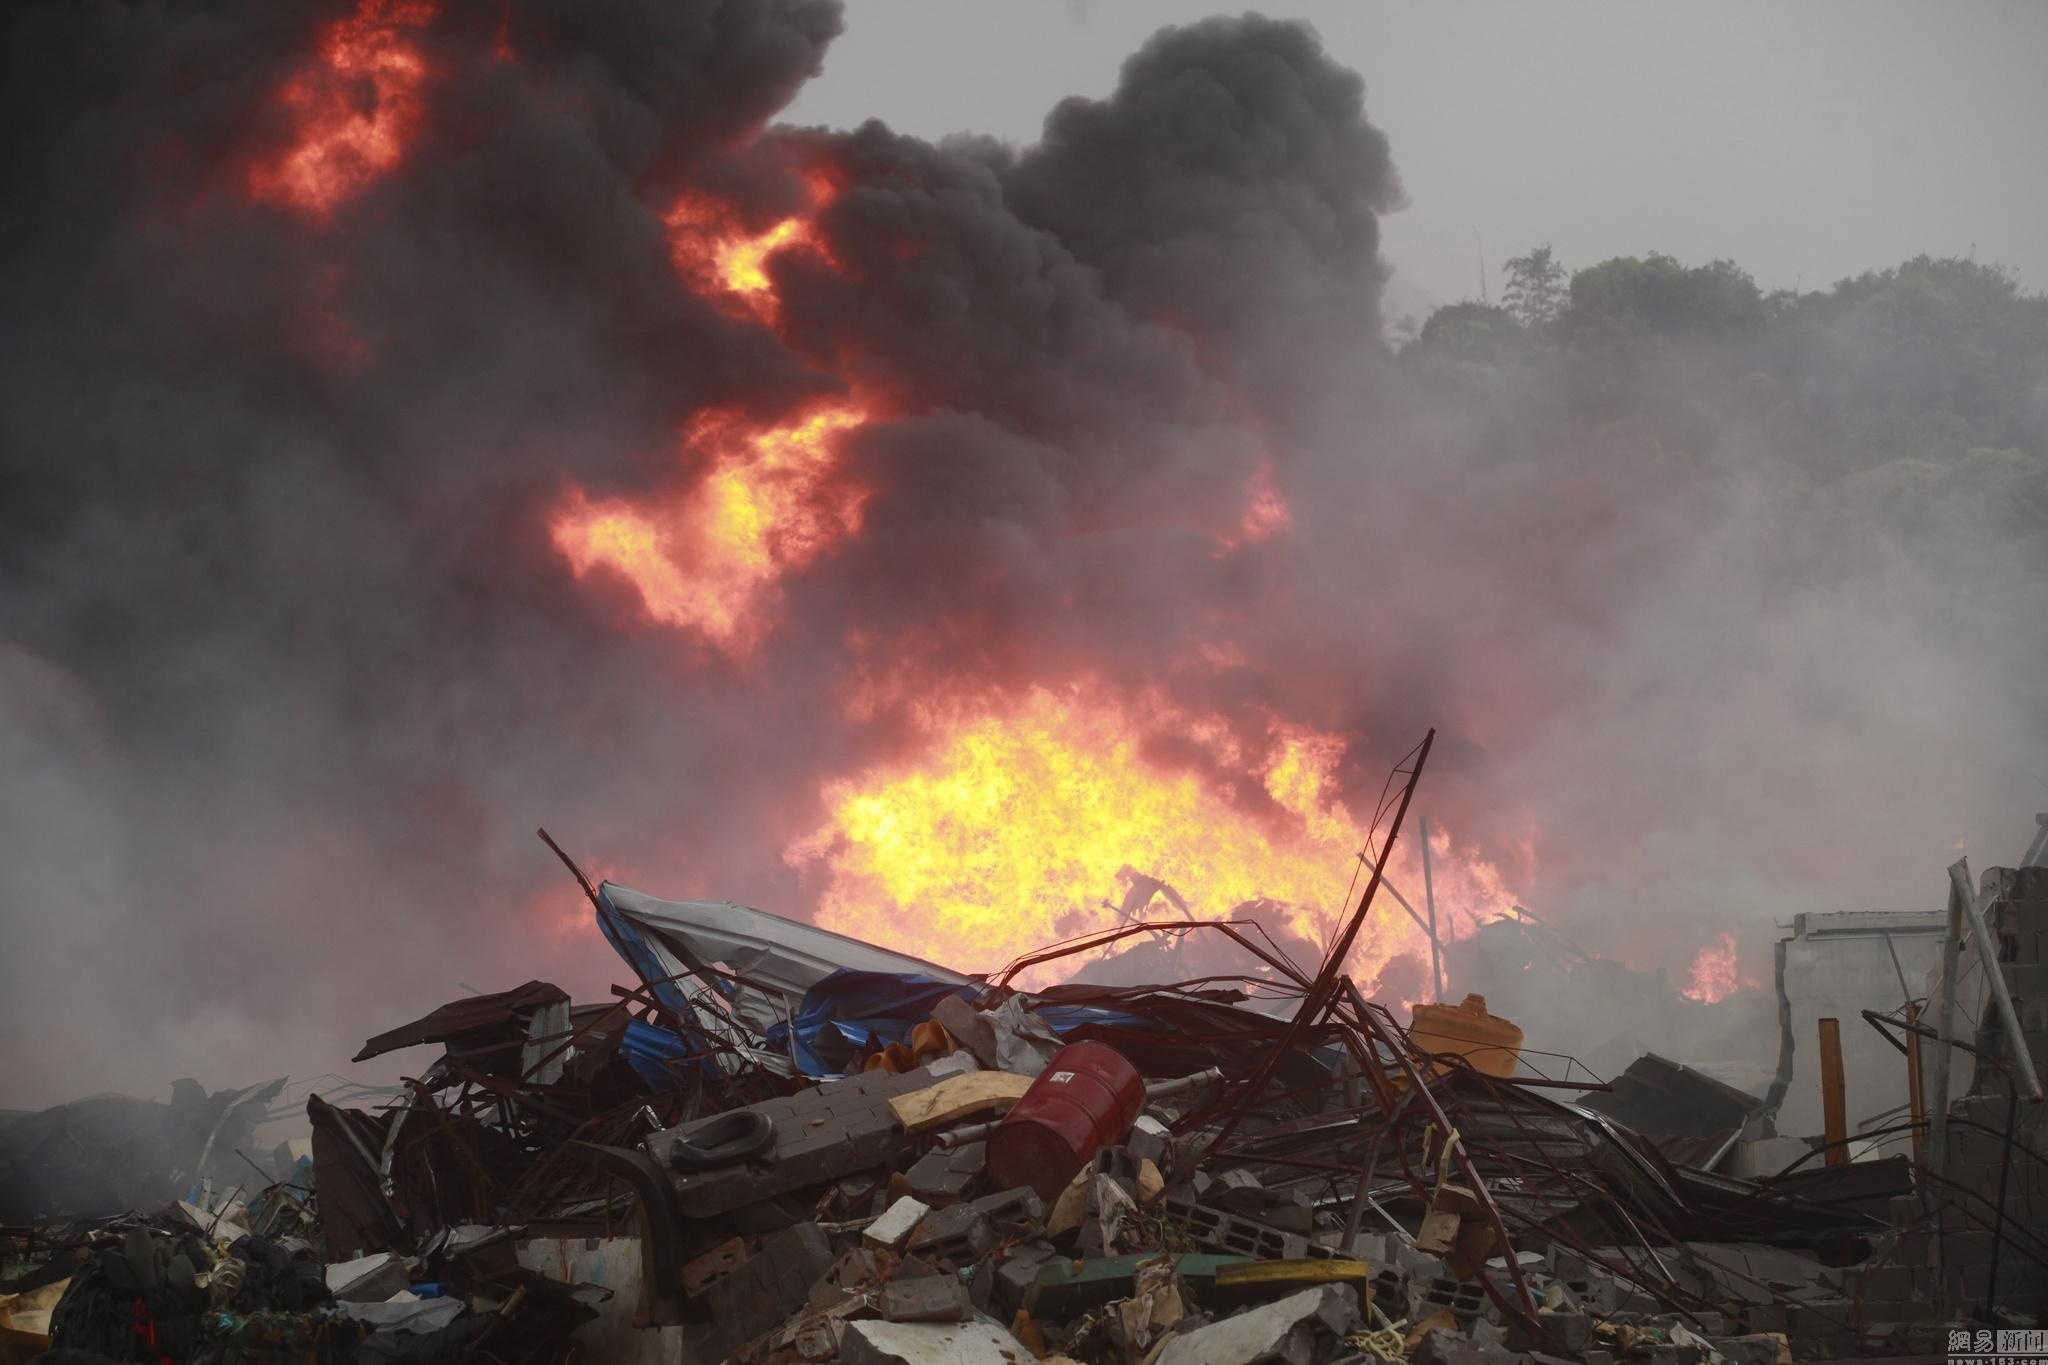fire: (805, 660, 1533, 999), (557, 395, 869, 640), (251, 14, 429, 210), (681, 174, 827, 306)
